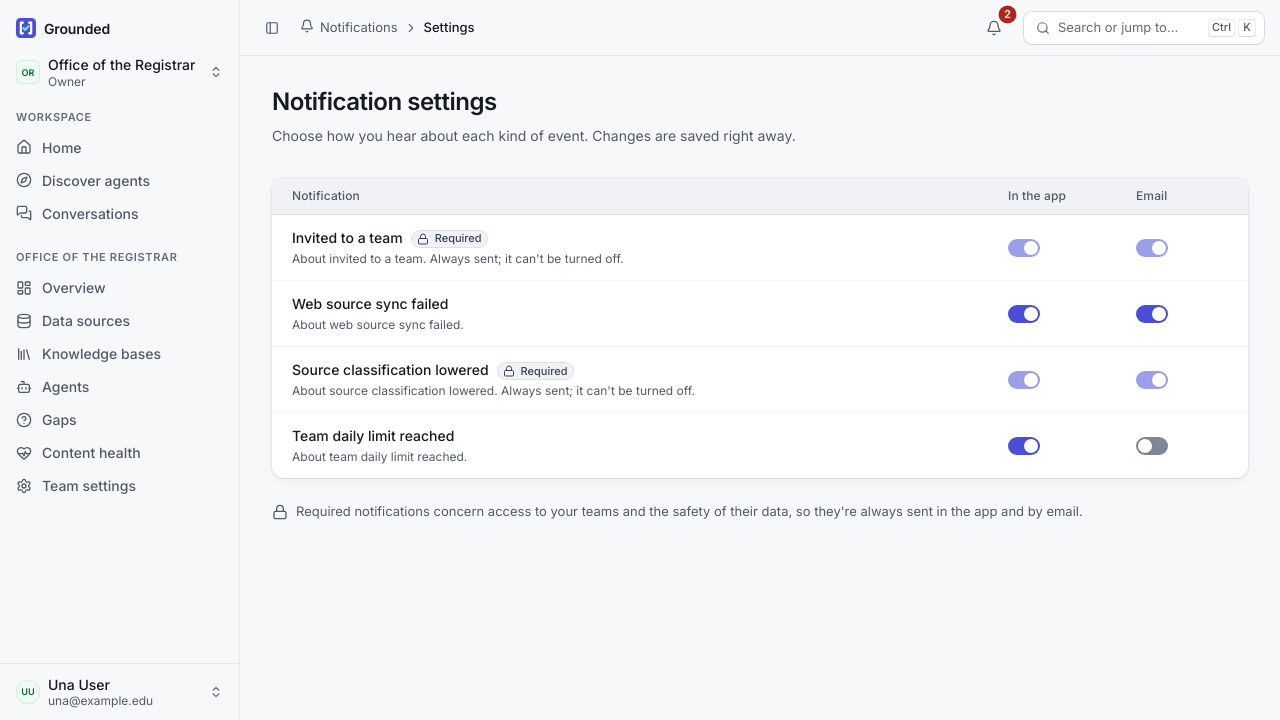
Scenario: notification settings › reports a rejected change
Click the 4th switch named "Email: Web source sync failed" at [1152, 314], box [1136, 305, 1168, 323]
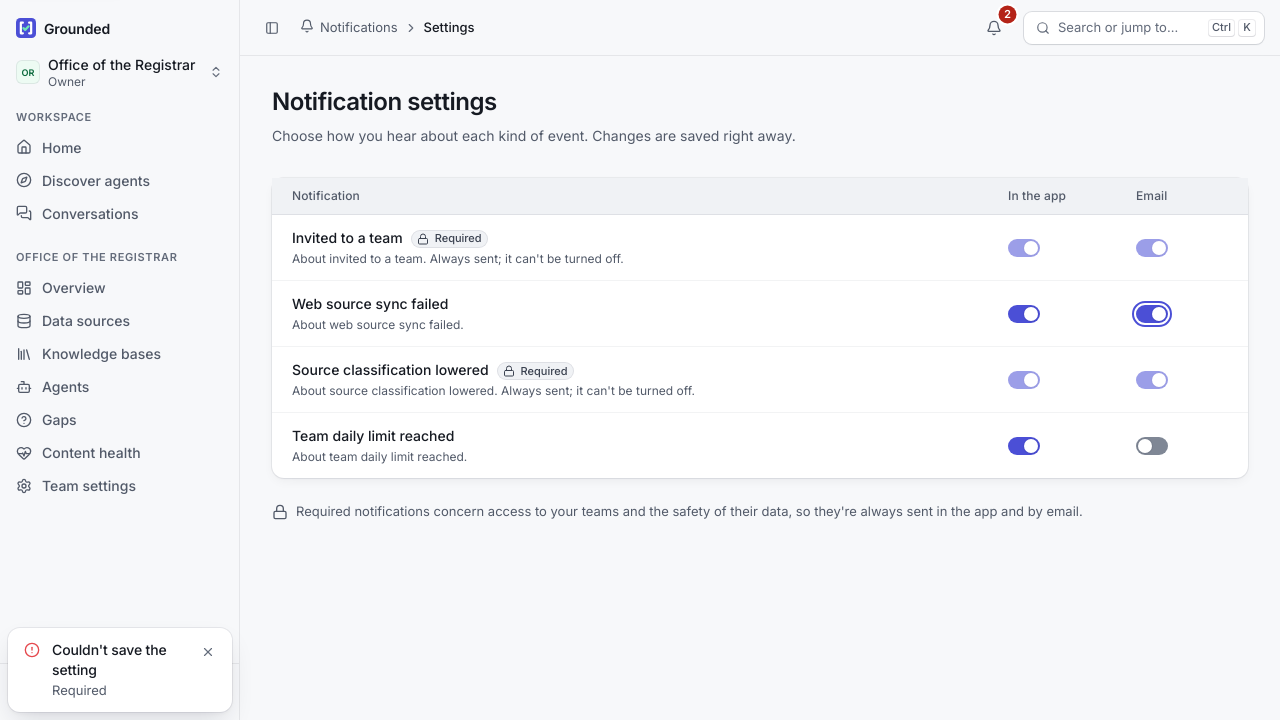
Expected: the heading "Couldn't save the setting" is shown, [52, 640, 184, 680]
